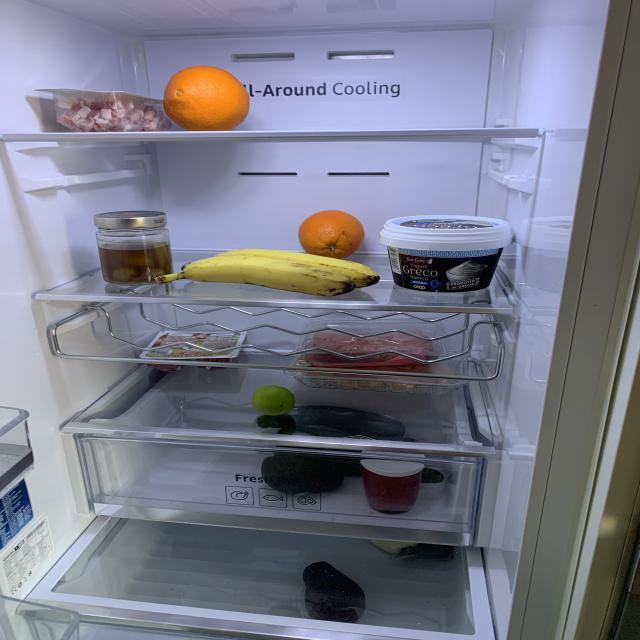avocado: (301, 560, 365, 620), (260, 457, 339, 492)
bacon: (54, 94, 168, 132), (196, 357, 232, 370), (147, 360, 184, 371)
banana: (156, 248, 378, 298)
courgettes: (256, 406, 445, 482), (367, 536, 457, 562)
ground_beef: (311, 331, 440, 364)
lime: (251, 386, 295, 414)
olives: (98, 241, 174, 282)
orange: (165, 66, 251, 130), (300, 210, 365, 258)
tomato_sauce: (363, 466, 422, 512)
yoghurt: (381, 214, 512, 293)
